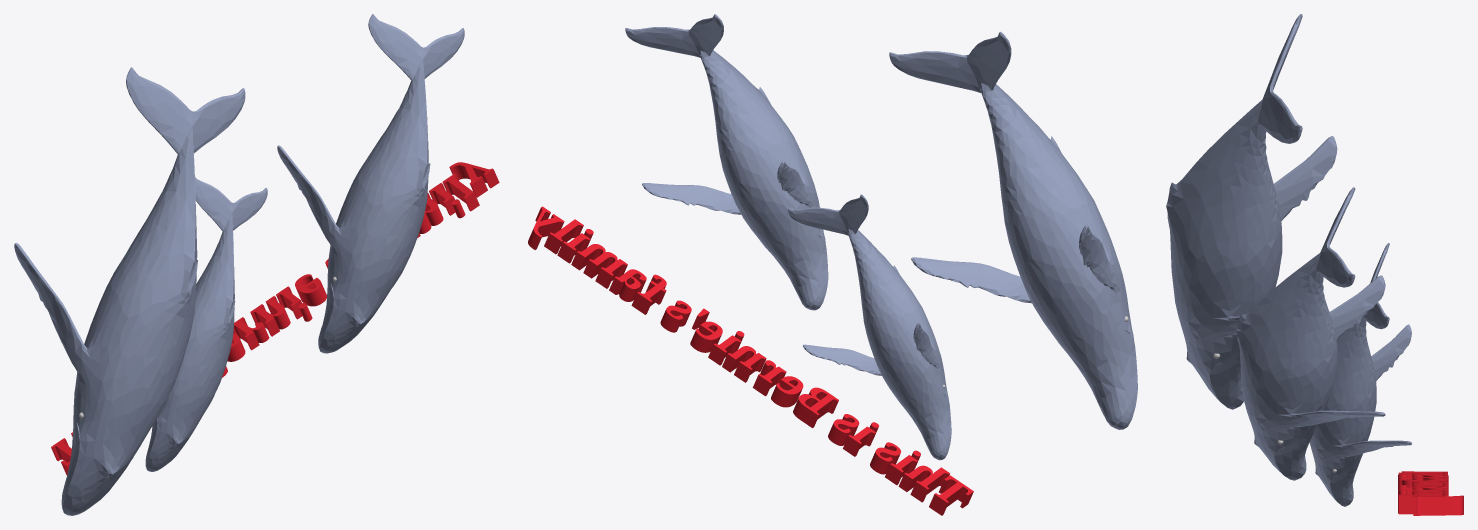
File: tinker.obj
The picture shows the model from 3 angles, left to right: view 1: azimuth 30°, elevation 25°; view 2: azimuth 150°, elevation 25°; view 3: azimuth 270°, elevation 25°; orthographic projection. The views are drawn at different scales.
Parts seen in each view (by area): view 1: group_0_9806015, group_0_15277357; view 2: group_0_9806015, group_0_15277357; view 3: group_0_9806015, group_0_15277357.
Part boxes in pixels (left/top/right/bottom): group_0_9806015: left=14, top=14, right=464, bottom=515; group_0_15277357: left=51, top=162, right=499, bottom=474; group_0_9806015: left=625, top=14, right=1137, bottom=460; group_0_15277357: left=528, top=206, right=973, bottom=515; group_0_9806015: left=1166, top=14, right=1411, bottom=506; group_0_15277357: left=1398, top=471, right=1463, bottom=515.
Bounding box in the file's own units: 150 × 121 × 67.8.
